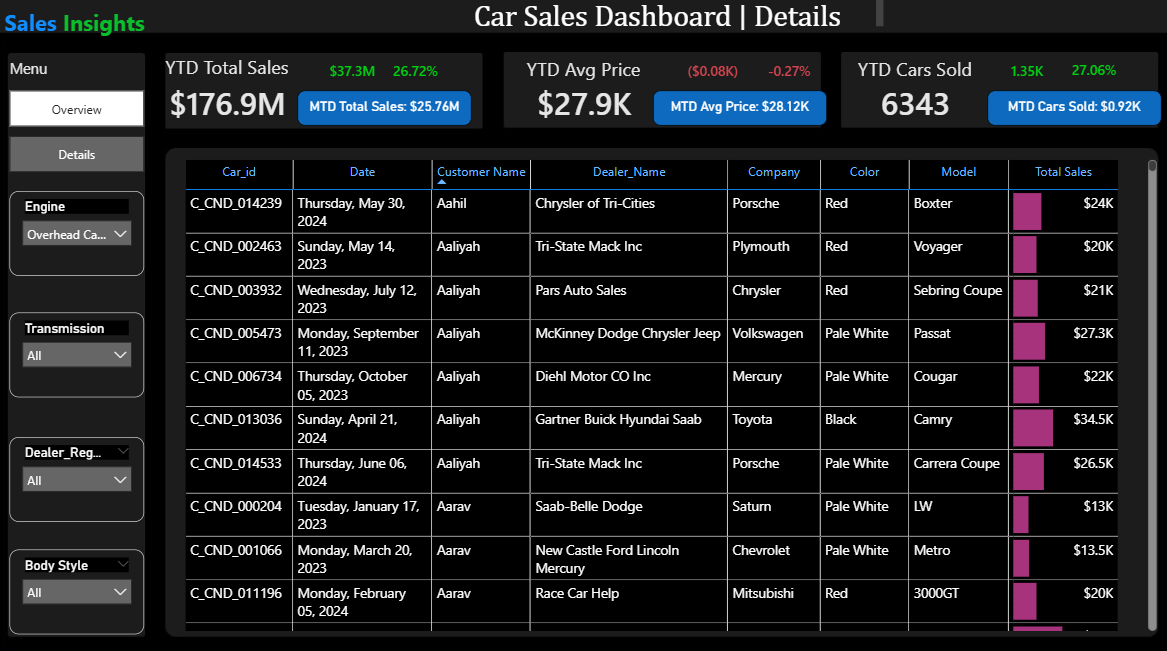

The dashboard page shown, as its layout file describes it:
{"tool":"powerbi","page":{"name":"Details","canvas":[1280,720],"ordinal":1},"visuals":[{"type":"card","title":"YTD Total Sales","fields":{"Values":["car_data.YTD Total Sales"]},"box":[177.6,66.1,153.1,77.5],"z":0},{"type":"card","title":"Sales Difference","fields":{"Values":["car_data.Sales Difference"]},"box":[353.4,66.1,71.8,39.7],"z":1000},{"type":"card","title":"Sales Difference","fields":{"Values":["car_data.YOY Sales Growth"]},"box":[425.2,66.1,66.1,39.7],"z":2000},{"type":"card","fields":{"Values":["car_data.MTD KPI"]},"box":[330.7,105.8,189,37.8],"z":3000},{"type":"card","title":"YTD Avg Price","fields":{"Values":["car_data.YTD Avg Price"]},"box":[561.3,68,158.7,75.6],"z":4000},{"type":"card","title":"Sales Difference","fields":{"Values":["car_data.Avg Price Diff"]},"box":[738.9,66.1,83.2,39.7],"z":5000},{"type":"card","title":"Sales Difference","fields":{"Values":["car_data.YOY Avg Price Growth"]},"box":[822.1,66.1,83.2,39.7],"z":6000},{"type":"card","fields":{"Values":["car_data.MTD Avg Price KPI"]},"box":[716.2,105.8,189,37.8],"z":7000},{"type":"card","title":"YTD Cars Sold","fields":{"Values":["car_data.YTD Cars Sold"]},"box":[920.3,68,158.7,75.6],"z":8000},{"type":"card","title":"Sales Difference","fields":{"Values":["car_data.Cars Sold Diff"]},"box":[1079.1,66.1,85,39.7],"z":9000},{"type":"card","title":"Sales Difference","fields":{"Values":["car_data.YOY Cars Sold Growth"]},"box":[1151,65.3,83.7,40.8],"z":10000},{"type":"card","fields":{"Values":["car_data.MTD Cars Sold KPI"]},"box":[1079.1,105.8,189,37.8],"z":11000},{"type":"textbox","box":[478.8,0,492.3,44.2],"z":12000},{"type":"slicer","fields":{"Values":["car_data.Body Style"]},"box":[17.3,603.8,146.2,92.3],"z":13000},{"type":"slicer","fields":{"Values":["car_data.Dealer_Region"]},"box":[17.3,480.8,146.2,92.3],"z":14000},{"type":"slicer","fields":{"Values":["car_data.Transmission"]},"box":[17.3,346.2,146.2,92.3],"z":15000},{"type":"slicer","fields":{"Values":["car_data.Engine"]},"box":[17.3,215.4,146.2,92.3],"z":16000},{"type":"tableEx","fields":{"Values":["car_data.Car_id","car_data.Date","car_data.Customer Name","car_data.Dealer_Name","car_data.Company","car_data.Color","car_data.Model","Sum(car_data.Price ($))"]},"box":[203.8,175,1063.5,521.2],"z":17000},{"type":"textbox","box":[0,9.6,176.9,55.8],"z":18000},{"type":"textbox","box":[0,65.4,76.9,42.3],"z":19000},{"type":"pageNavigator","box":[17.3,105.8,146.2,88.5],"z":20000}]}

Visuals, with their boxes on the page's 1280x720 design canvas (x1, y1, x2, y2). These are canvas units, not pixel positions in the 1167x651 screenshot, which may show the page scaled, cropped or inside an application window:
"YTD Total Sales" card: select_region(178, 66, 331, 144)
"Sales Difference" card: select_region(353, 66, 425, 106)
"Sales Difference" card: select_region(425, 66, 491, 106)
card - car_data.MTD KPI: select_region(331, 106, 520, 144)
"YTD Avg Price" card: select_region(561, 68, 720, 144)
"Sales Difference" card: select_region(739, 66, 822, 106)
"Sales Difference" card: select_region(822, 66, 905, 106)
card - car_data.MTD Avg Price KPI: select_region(716, 106, 905, 144)
"YTD Cars Sold" card: select_region(920, 68, 1079, 144)
"Sales Difference" card: select_region(1079, 66, 1164, 106)
"Sales Difference" card: select_region(1151, 65, 1235, 106)
card - car_data.MTD Cars Sold KPI: select_region(1079, 106, 1268, 144)
textbox: select_region(479, 0, 971, 44)
slicer - car_data.Body Style: select_region(17, 604, 164, 696)
slicer - car_data.Dealer_Region: select_region(17, 481, 164, 573)
slicer - car_data.Transmission: select_region(17, 346, 164, 438)
slicer - car_data.Engine: select_region(17, 215, 164, 308)
tableEx - car_data.Car_id x car_data.Date: select_region(204, 175, 1267, 696)
textbox: select_region(0, 10, 177, 65)
textbox: select_region(0, 65, 77, 108)
pageNavigator: select_region(17, 106, 164, 194)
